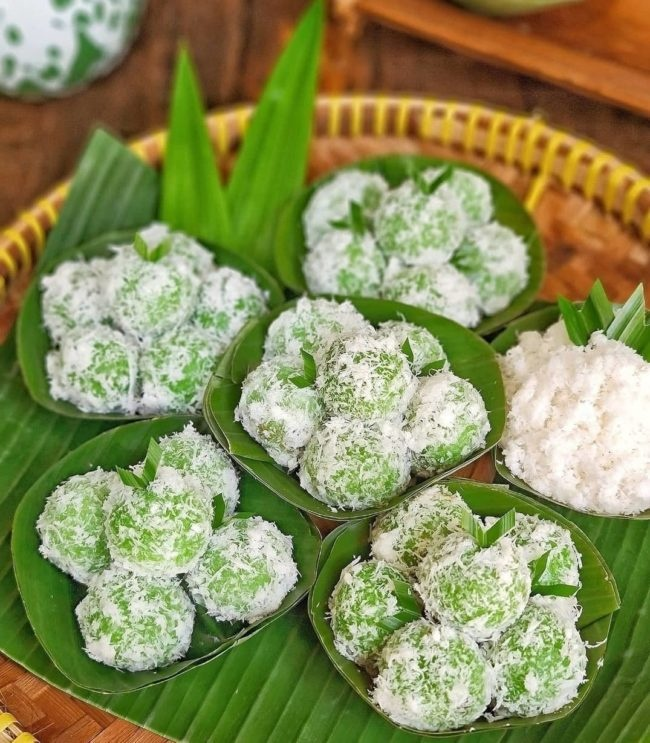klepon: (299, 399, 432, 521), (74, 471, 219, 569), (95, 248, 201, 337), (364, 174, 470, 262)
